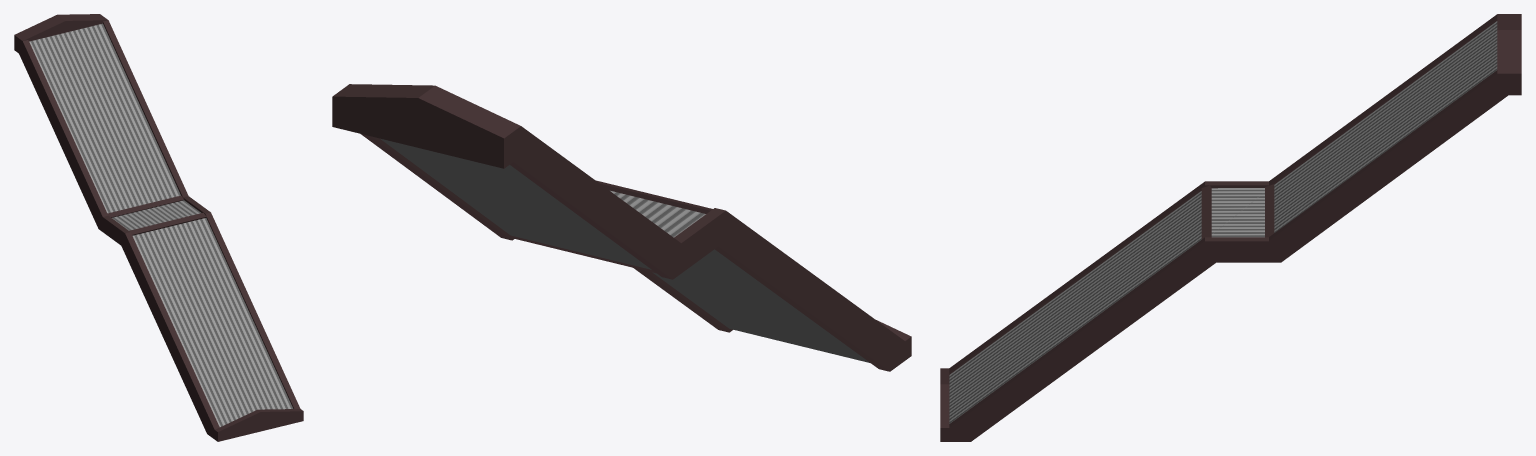
File: SW_ENV_EL_StationStair_Roof.fbx
3 renders of one model, left to right at view 1: azimuth 30°, elevation 25°; view 2: azimuth 150°, elevation 25°; view 3: azimuth 270°, elevation 25°, orthographic. The views are drawn at different scales.
Parts seen in each view (by area): view 1: SW_ENV_EL_StationStair_Roof; view 2: SW_ENV_EL_StationStair_Roof; view 3: SW_ENV_EL_StationStair_Roof.
Boxes of the visible parts, x1,y1,x2,y2 form: SW_ENV_EL_StationStair_Roof: (14,14,303,441); SW_ENV_EL_StationStair_Roof: (332,84,911,371); SW_ENV_EL_StationStair_Roof: (940,14,1521,441).
Size of the model in its own units: 230 by 685 by 945.
